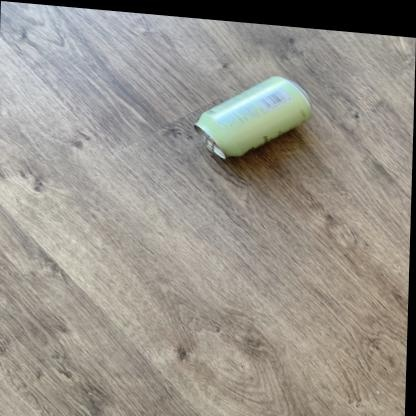trash: (195, 76, 310, 158)
